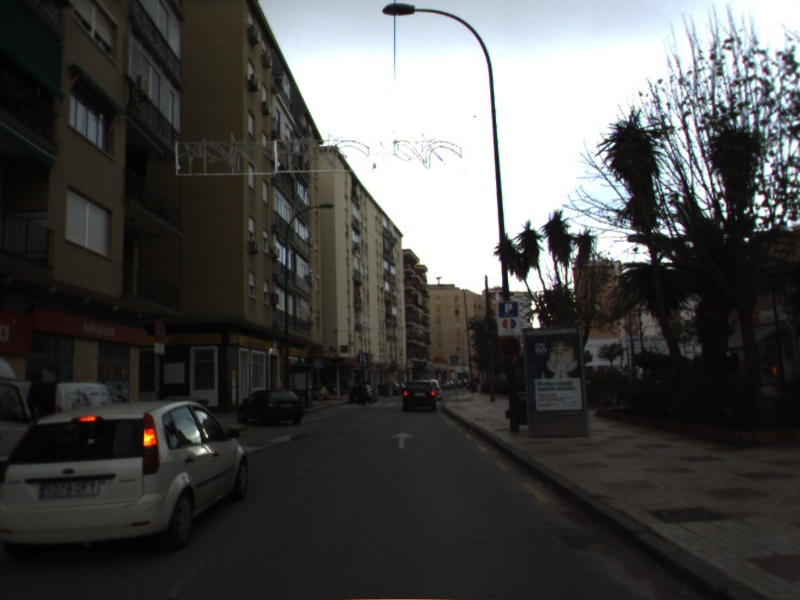STRAIGHT: (245, 432, 293, 454), (389, 429, 417, 451)
